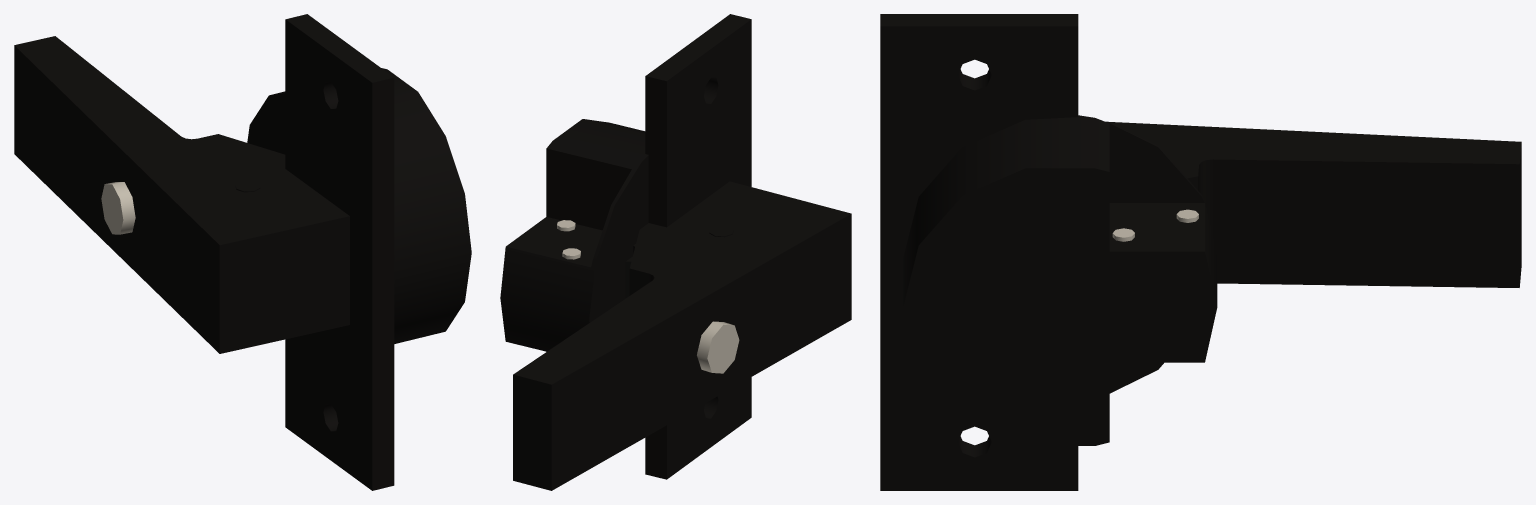
3 renders of one model, left to right at view 1: azimuth 30°, elevation 25°; view 2: azimuth 150°, elevation 25°; view 3: azimuth 270°, elevation 25°, orthographic. The views are drawn at different scales.
Parts seen in each view (by area): view 1: bau0029777130-1, bau0015166285-1; view 2: bau0029777130-1, bau0015166285-1; view 3: bau0015166285-1, bau0029777130-1.
Part boxes in pixels (x1,y1,x2,y2): bau0029777130-1: (14,36,349,353); bau0015166285-1: (247,14,471,490); bau0029777130-1: (513,181,851,490); bau0015166285-1: (500,14,751,479); bau0015166285-1: (880,14,1217,490); bau0029777130-1: (1106,121,1521,287).
Bounding box in the file's own units: 34.64 × 57 × 71.28.
